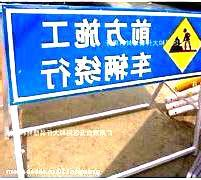sign: (6, 6, 201, 85)
